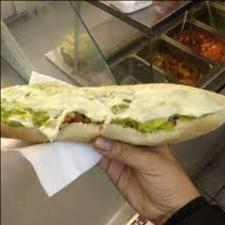Completos: (0, 78, 225, 148)
